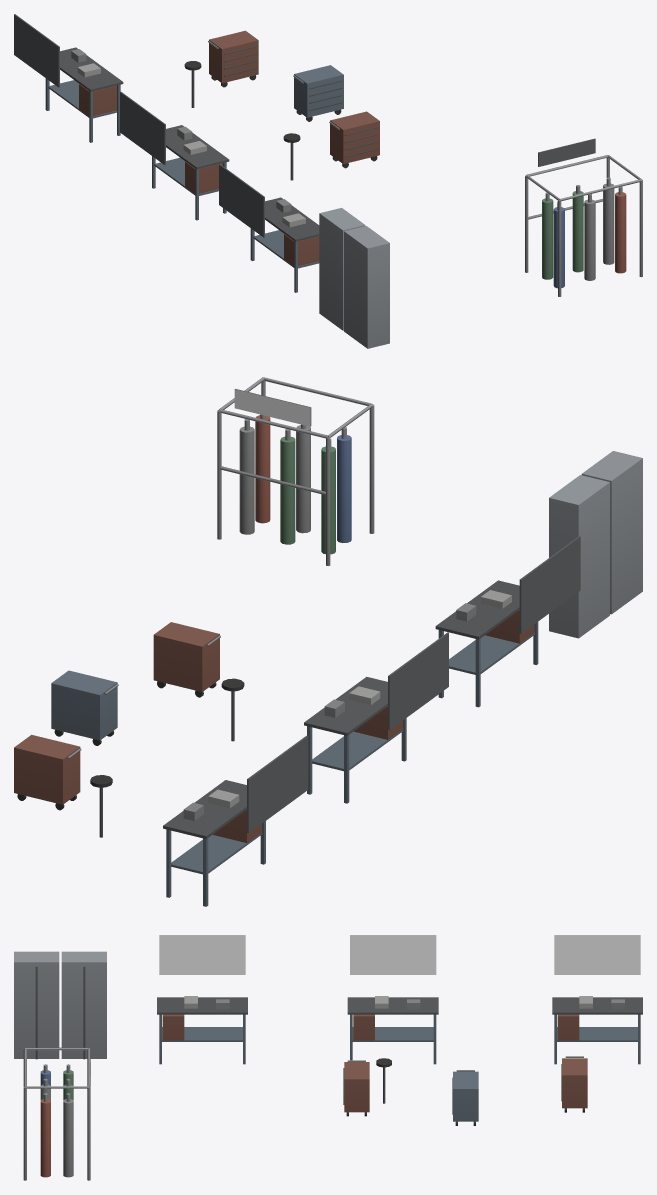
Rendered from shop.glb.
The picture shows the model from 3 angles, top to bottom: view 1: azimuth 30°, elevation 25°; view 2: azimuth 150°, elevation 25°; view 3: azimuth 270°, elevation 25°; orthographic projection. The views are drawn at different scales.
Visible parts, largest first — view 1: shop; view 2: shop; view 3: shop.
Boxes of the visible parts, left/top/right/bottom form: shop: left=14, top=14, right=642, bottom=348; shop: left=14, top=377, right=642, bottom=906; shop: left=14, top=935, right=642, bottom=1180.
Bounding box in the file's own units: 7.59 × 2.72 × 13.85.
